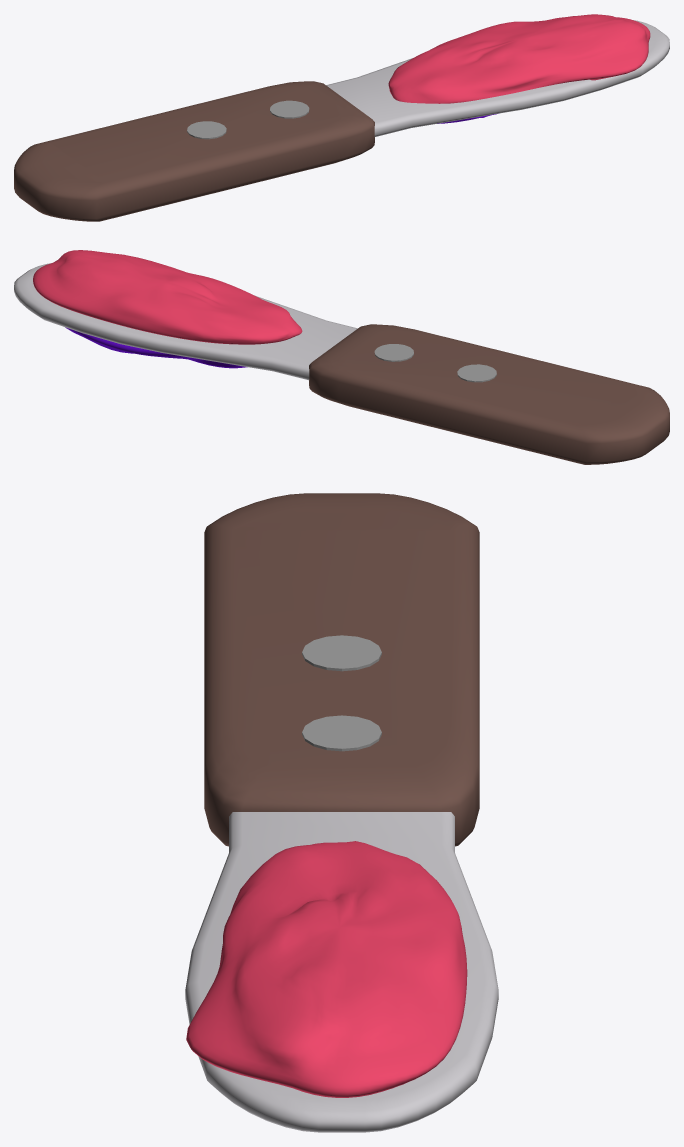
The model's file is Butter_Knife (1).fbx.
3 views of the same model, one above another, from view 1: azimuth 30°, elevation 25°; view 2: azimuth 150°, elevation 25°; view 3: azimuth 270°, elevation 25° (orthographic). The views are drawn at different scales.
Parts seen in each view (by area): view 1: Butter knife; view 2: Butter knife; view 3: Butter knife.
Part boxes in pixels (x1,y1,x2,y2): Butter knife: [14, 14, 669, 221]; Butter knife: [14, 250, 669, 464]; Butter knife: [185, 493, 498, 1132].
Size of the model in its own units: 1146 by 99.12 by 245.
